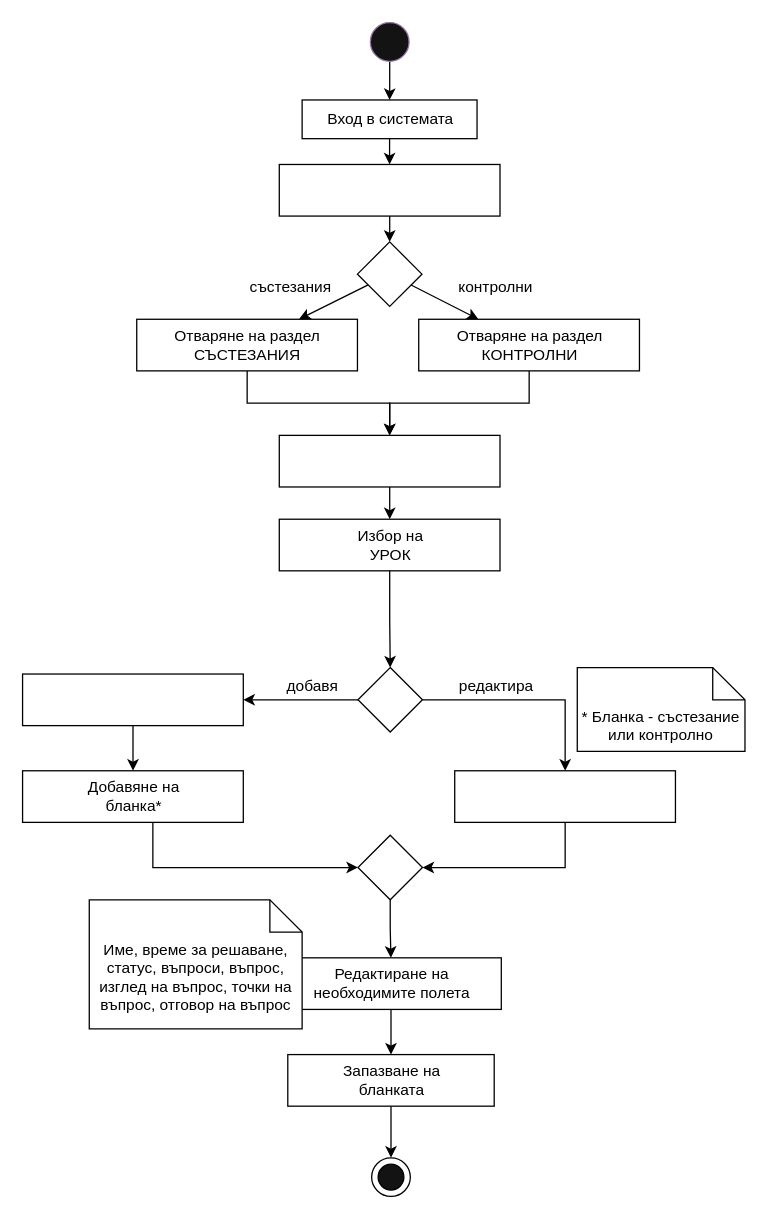
The diagram is 768 pixels wide and 1219 high, and some of its shapes have lost their labels. Here are the shapes that lost their labels. From the top down, the centre of each, then its label:
the point at 389,189: Отваряне на раздел УПРАВЛЕНИЕ НА РЕСУРСИ
the point at 389,460: Избор на ЕРА
the point at 132,699: Въвеждане на име
the point at 564,795: Избиране на бланка*
